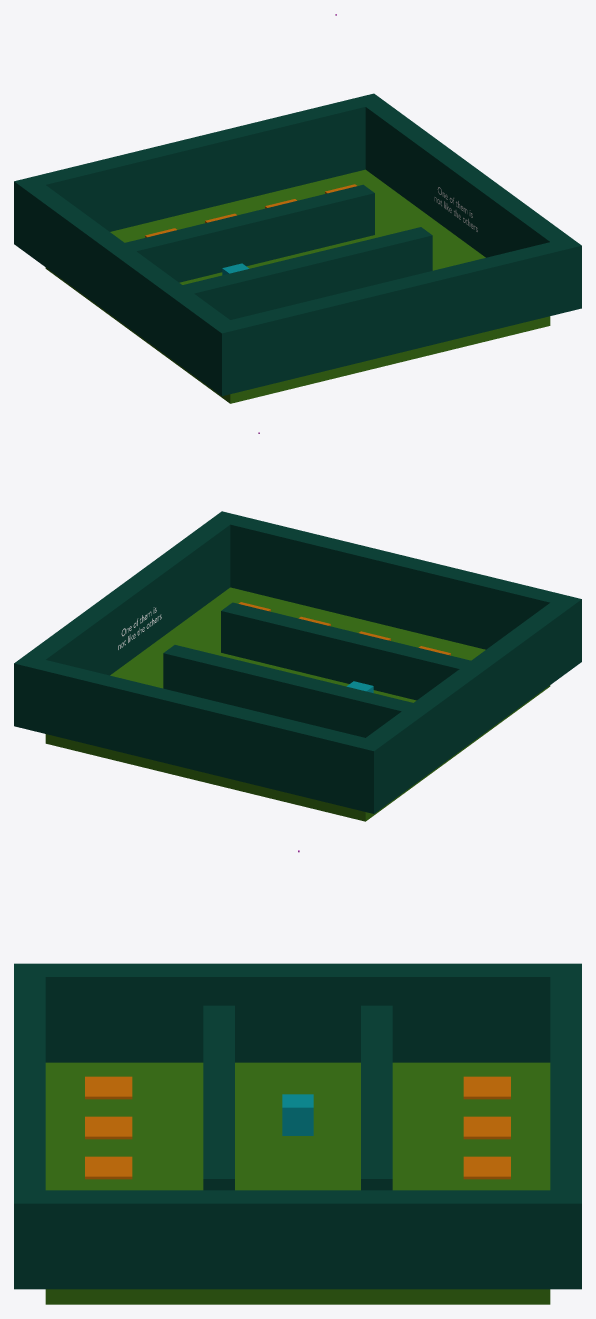
Rendered from world.obj.
3 views of the same model, one above another, from view 1: azimuth 30°, elevation 25°; view 2: azimuth 150°, elevation 25°; view 3: azimuth 270°, elevation 25° (orthographic). The views are drawn at different scales.
Parts seen in each view (by area): view 1: Wall.101_Cube.000, Wall.104_Cube.003, Wall.102_Cube.005, Wall.103_Cube.004, Floor.002_Cube.018, Floor.001_Cube.002, Floor.003_Cube.019; view 2: Wall.104_Cube.003, Wall.101_Cube.000, Wall.102_Cube.005, Wall.103_Cube.004, Floor.003_Cube.019, Floor.001_Cube.002, Floor.002_Cube.018; view 3: Floor.001_Cube.002, Wall.103_Cube.004, Wall.102_Cube.005, Wall.104_Cube.003, Wall.101_Cube.000, Floor.003_Cube.019, Floor.002_Cube.018, Marker.Spawn_Cube.016, Activator.010_Cube.017, Activator.009_Cube.015, Activator.008_Cube.014, Activator.003_Cube.009 (+2 smaller).
Part boxes in pixels (x1,y1,x2,y2): Wall.101_Cube.000: (210, 242, 561, 396); Wall.104_Cube.003: (34, 93, 385, 231); Wall.102_Cube.005: (14, 176, 229, 387); Wall.103_Cube.004: (365, 102, 581, 313); Floor.002_Cube.018: (125, 184, 374, 282); Floor.001_Cube.002: (45, 169, 550, 403); Floor.003_Cube.019: (183, 227, 432, 319); Wall.104_Cube.003: (14, 655, 364, 808); Wall.101_Cube.000: (230, 516, 581, 669); Wall.102_Cube.005: (354, 602, 570, 813); Wall.103_Cube.004: (26, 511, 241, 675); Floor.003_Cube.019: (221, 602, 470, 700); Floor.001_Cube.002: (45, 587, 550, 821); Floor.002_Cube.018: (163, 645, 412, 737); Floor.001_Cube.002: (45, 1062, 550, 1304); Wall.103_Cube.004: (14, 1190, 550, 1289); Wall.102_Cube.005: (45, 963, 581, 1062); Wall.104_Cube.003: (550, 977, 581, 1289); Wall.101_Cube.000: (14, 963, 45, 1190); Floor.003_Cube.019: (203, 1005, 234, 1190); Floor.002_Cube.018: (361, 1005, 392, 1190); Marker.Spawn_Cube.016: (282, 1094, 313, 1135); Activator.010_Cube.017: (85, 1076, 132, 1099); Activator.009_Cube.015: (85, 1116, 132, 1139); Activator.008_Cube.014: (85, 1156, 132, 1179); Activator.003_Cube.009: (463, 1156, 510, 1179).
Size of the model in its own units: 18 by 13.05 by 18.
